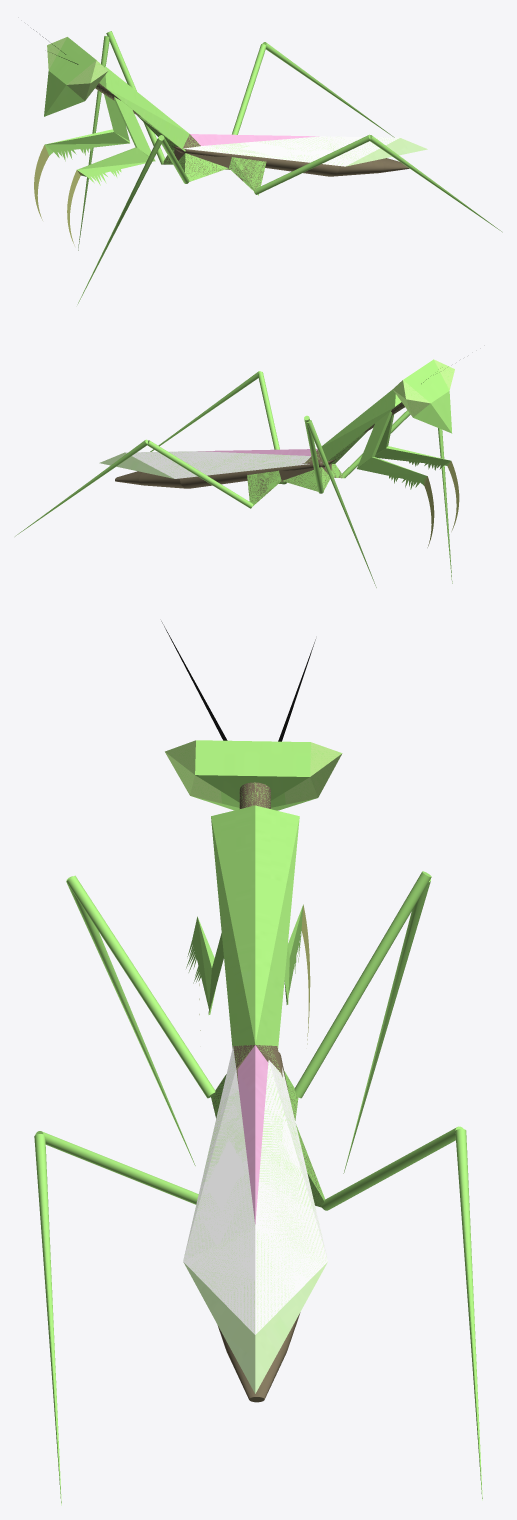
Rendered from Mantis.dae.
3 renders of one model, top to bottom at view 1: azimuth 30°, elevation 25°; view 2: azimuth 150°, elevation 25°; view 3: azimuth 270°, elevation 25°, orthographic. The views are drawn at different scales.
Visible parts, largest first — view 1: group_2 (×3), group_3 (×3), group_4 (×2), group_5, group_21, group_14, group_24, group_15, group_18, group_8, group_11, group_25 (+5 smaller); view 2: group_2 (×3), group_3 (×3), group_4 (×2), group_5, group_21, group_14, group_8, group_20, group_10, group_12, group_7, group_24 (+4 smaller); view 3: group_2 (×3), group_5, group_4 (×3), group_17, group_11, group_7, group_25, group_24, group_8, group_10, group_18, group_3 (+2 smaller).
Boxes of the visible parts, x1,y1,x2,y2 form: group_2 (×3): (183, 134, 427, 166); group_3 (×3): (174, 146, 409, 195); group_4 (×2): (44, 37, 107, 116); group_5: (99, 66, 189, 151); group_21: (45, 129, 129, 161); group_14: (77, 147, 154, 185); group_24: (254, 134, 370, 194); group_15: (114, 96, 155, 160); group_18: (77, 137, 163, 304); group_8: (232, 44, 266, 134); group_11: (106, 31, 164, 164); group_25: (370, 135, 502, 232); group_2 (×3): (99, 449, 317, 478); group_3 (×3): (115, 459, 334, 505); group_4 (×2): (393, 359, 452, 433); group_5: (321, 389, 401, 464); group_21: (357, 457, 427, 489); group_14: (375, 446, 450, 470); group_8: (147, 440, 253, 508); group_20: (357, 410, 392, 468); group_10: (306, 420, 376, 587); group_12: (179, 456, 321, 478); group_7: (15, 439, 147, 536); group_24: (258, 371, 286, 484); group_2 (×3): (183, 1045, 327, 1393); group_5: (211, 805, 299, 1048); group_4 (×3): (165, 740, 342, 810); group_17: (66, 875, 215, 1098); group_11: (294, 871, 431, 1098); group_7: (455, 1129, 482, 1500); group_25: (34, 1134, 61, 1505); group_24: (35, 1131, 198, 1204); group_8: (321, 1126, 463, 1210); group_10: (343, 879, 430, 1173); group_18: (66, 876, 195, 1165); group_3: (217, 1049, 300, 1402).
Size of the model in its own units: 13.5 by 6.42 by 8.03.
